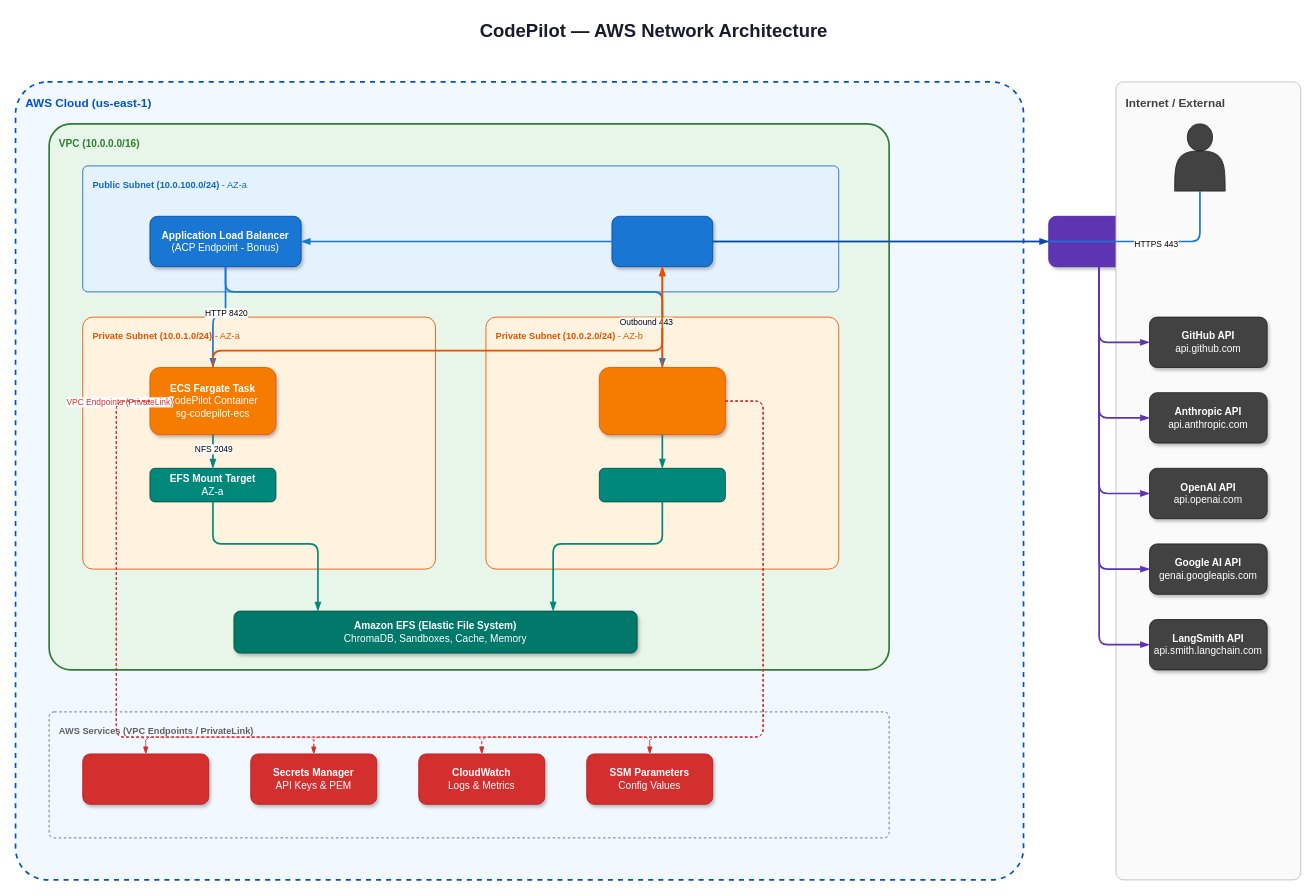
Image size: 1315x895. Some labels were removed from this diagram. Here are the shapes that lost their labels. From the top down, the centre of each, then its label:
the point at 1199,157: Remote Developer Zed / Cursor IDE
the point at 663,242: NAT Gateway Outbound Internet
the point at 1100,242: Internet Gateway
the point at 662,402: ECS Fargate Task (Standby / Scale) sg-codepilot-ecs
the point at 661,484: EFS Mount Target AZ-b
the point at 146,780: Amazon ECR Container Images
